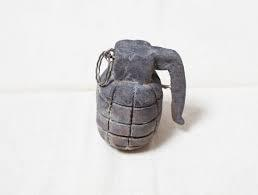Grenade: (93, 38, 186, 151)
